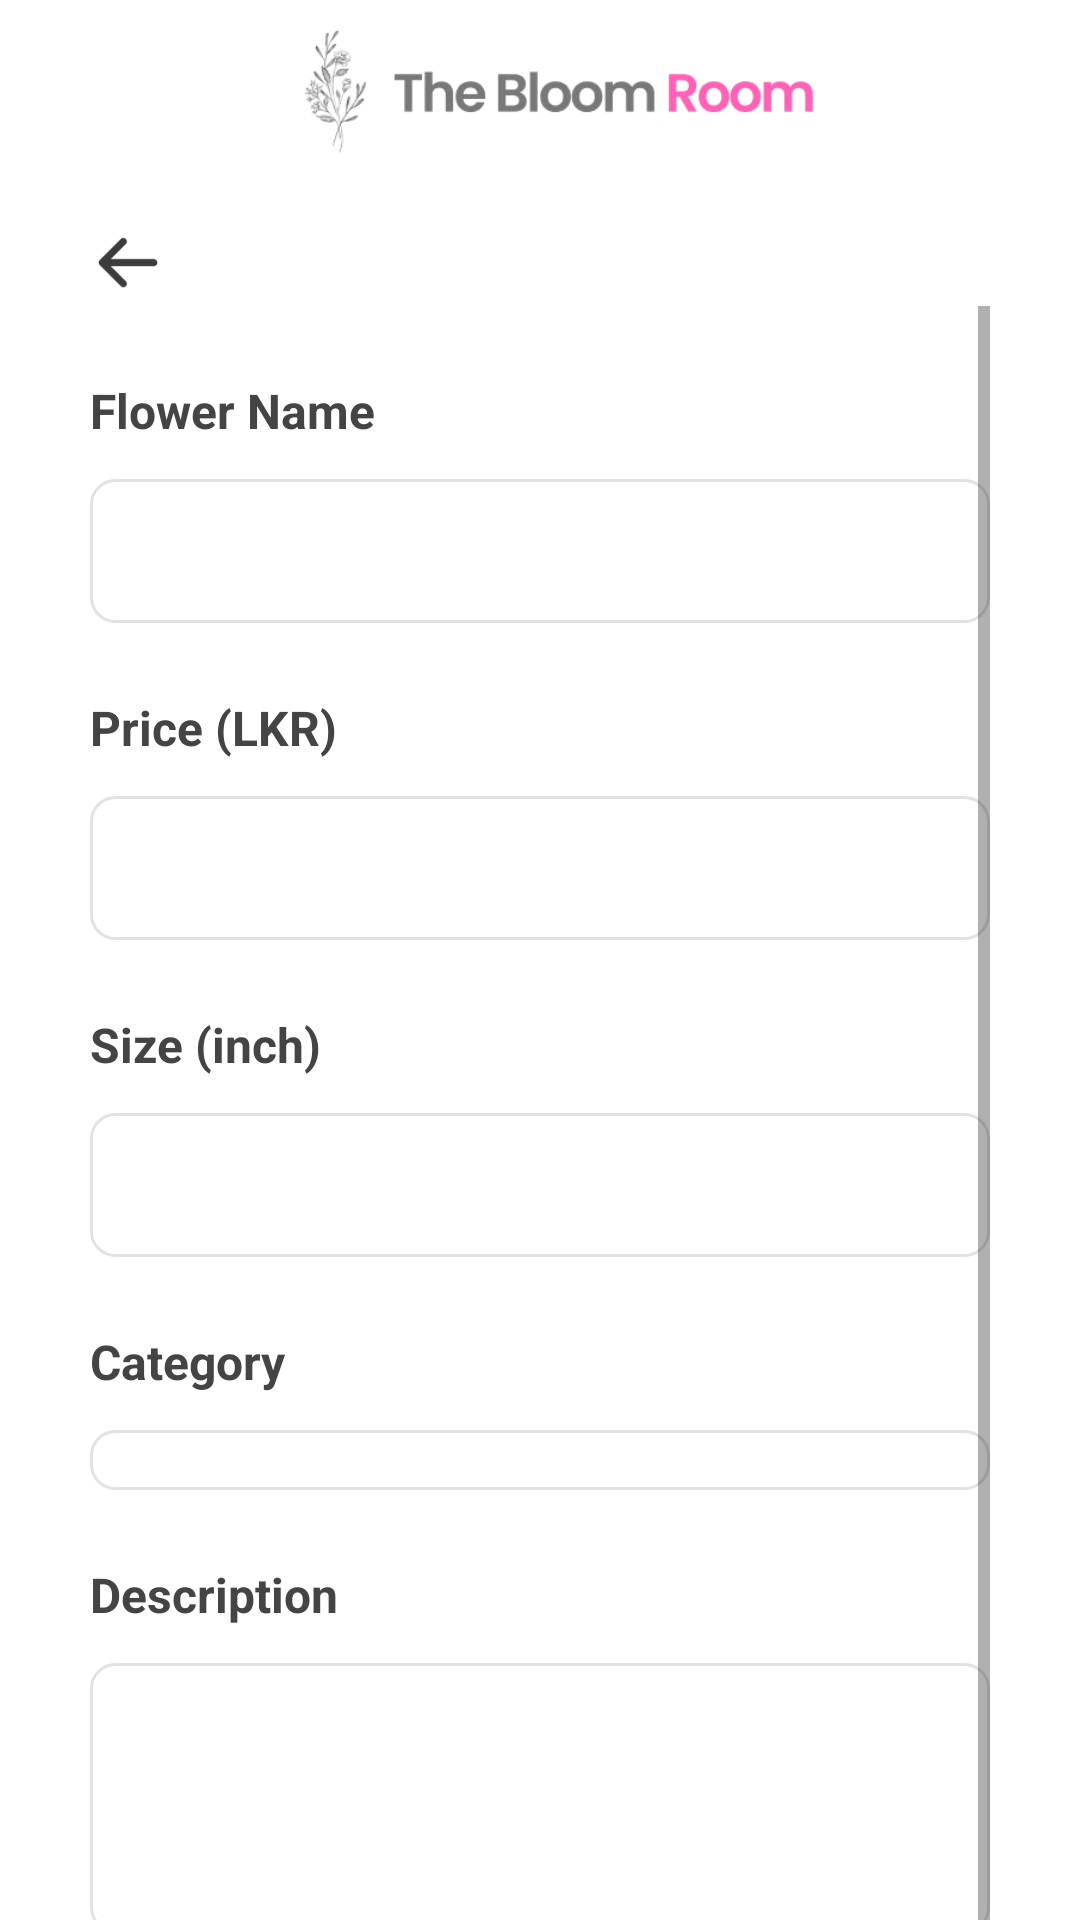

Where to tap for icons on this 1080 x 1920 app screen, as (x,y):
back: (128,262)
